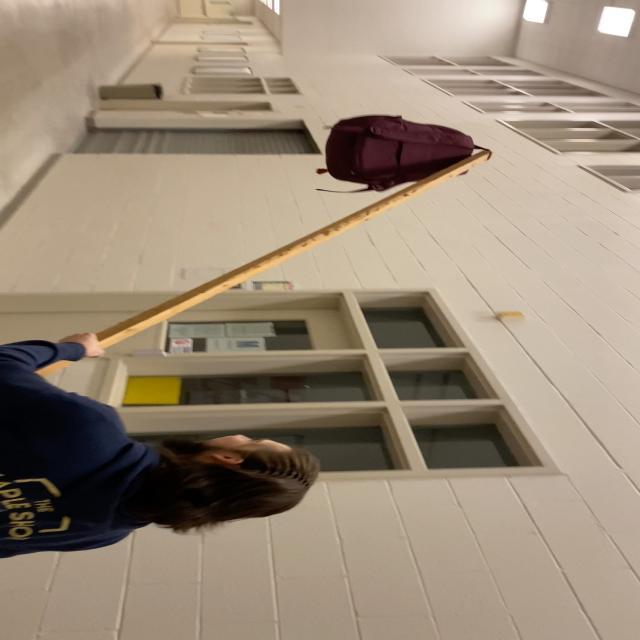Backpacks: (323, 110, 476, 188)
